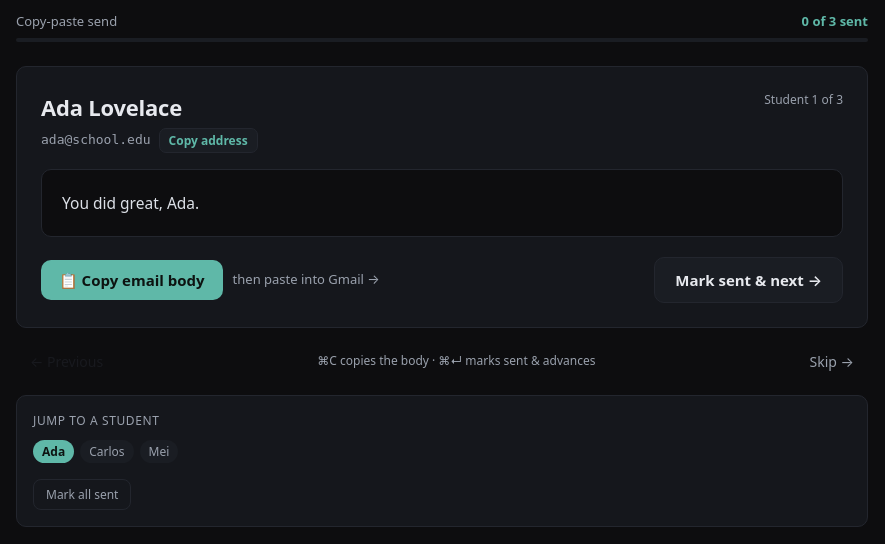
Scenario: SendStepper › Mark sent & next marks the current student and advances
The image size is (885, 544).
Click the button "Mark sent & next →" at (749, 280), box x1=654 y1=257 x2=843 y2=303
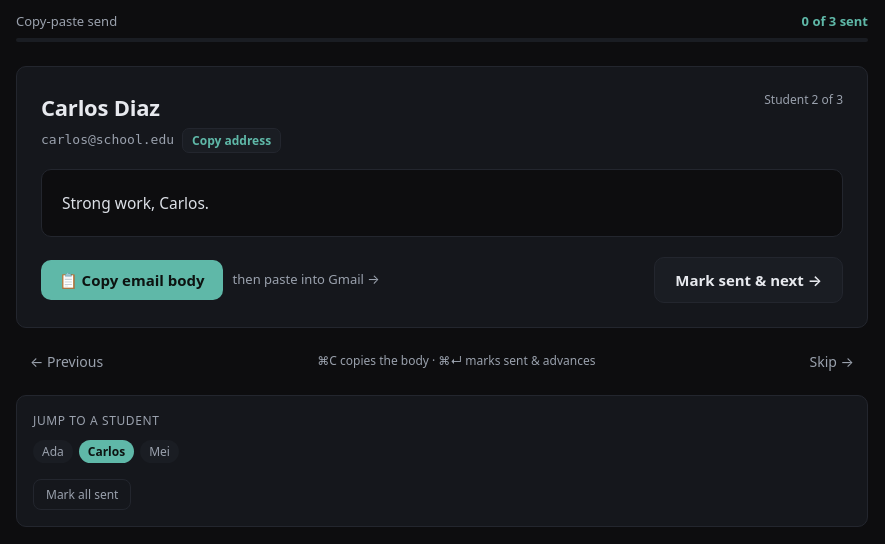
Now the text "Carlos Diaz" is shown, box x1=41 y1=92 x2=160 y2=122
